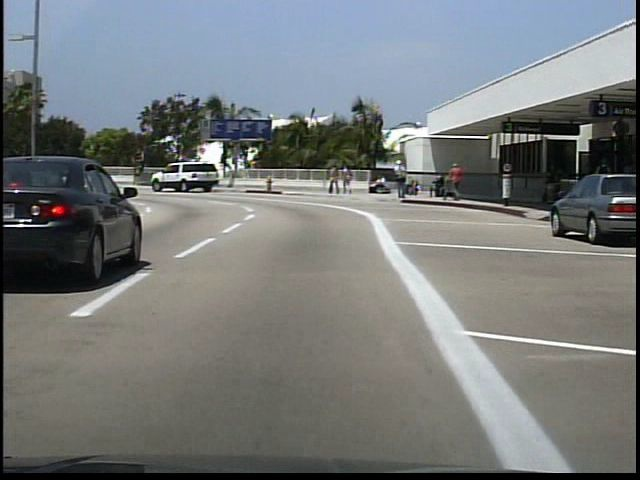person: (589, 153, 616, 216), (393, 157, 408, 203), (450, 160, 467, 200), (330, 162, 342, 196), (343, 162, 354, 197), (369, 175, 388, 195)
